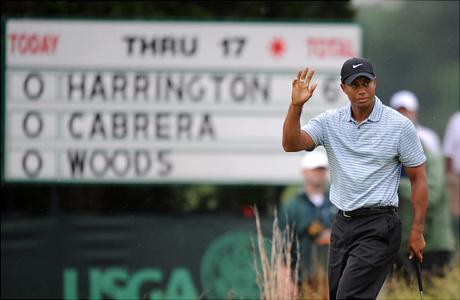person: (282, 58, 429, 300)
